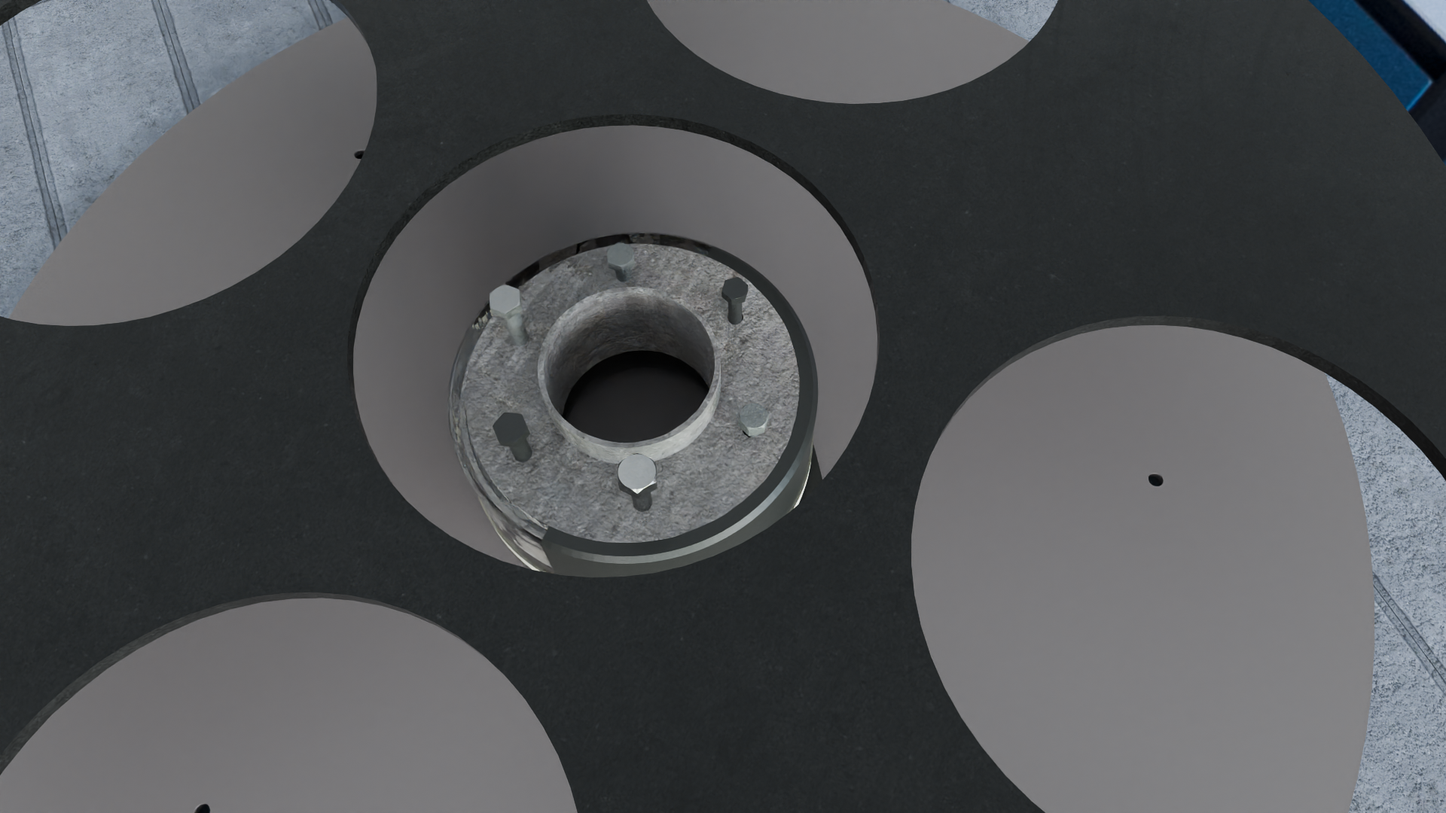bolt: (618, 453, 656, 494), (493, 413, 528, 443), (490, 285, 520, 314), (738, 403, 769, 431), (606, 242, 634, 267), (721, 277, 748, 300)
